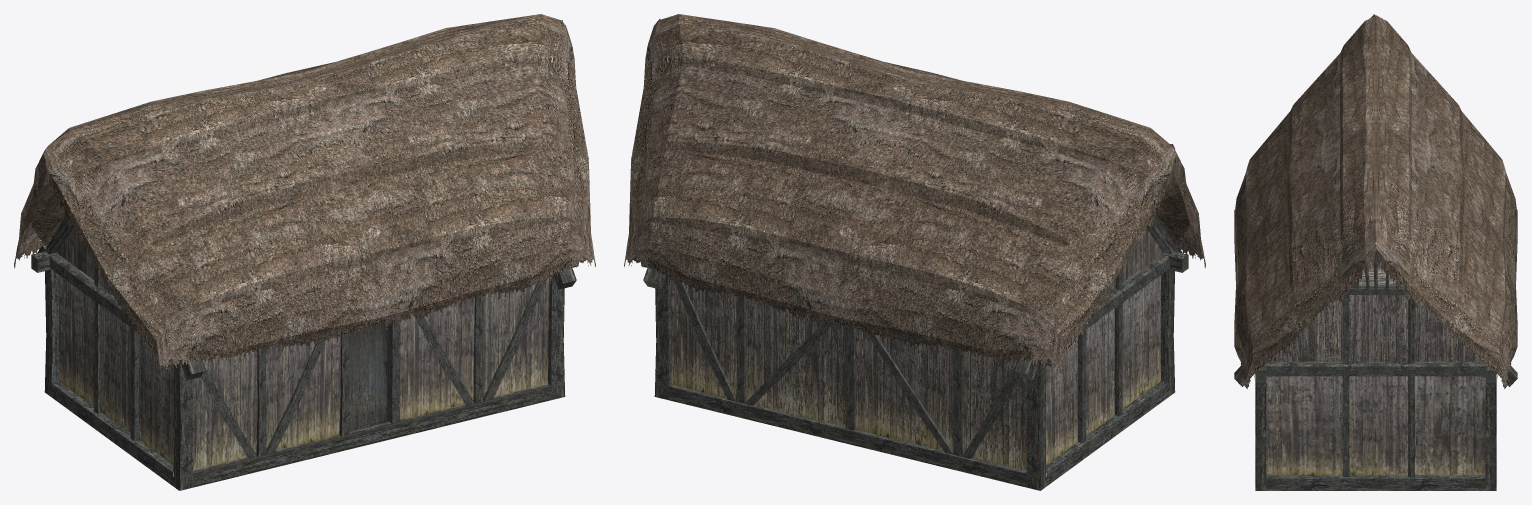
Rendered from Thatched_house3V3_Alex.fbx.
3 renders of one model, left to right at view 1: azimuth 30°, elevation 25°; view 2: azimuth 150°, elevation 25°; view 3: azimuth 270°, elevation 25°, orthographic. The views are drawn at different scales.
Parts seen in each view (by area): view 1: ThatchedRoof_UP.003, House3_walls, ThatchedRoof_BOT.003, House_frame.002, Wooden_door.003; view 2: ThatchedRoof_UP.003, House3_walls, ThatchedRoof_BOT.003, House_frame.002; view 3: ThatchedRoof_UP.003, House3_walls, House_frame.002, ThatchedRoof_BOT.003.
Boxes of the visible parts, bbox=[...] form: ThatchedRoof_UP.003: bbox=[29, 14, 580, 325]; House3_walls: bbox=[57, 228, 549, 470]; ThatchedRoof_BOT.003: bbox=[14, 23, 595, 373]; House_frame.002: bbox=[31, 216, 578, 490]; Wooden_door.003: bbox=[349, 322, 388, 430]; ThatchedRoof_UP.003: bbox=[639, 14, 1190, 325]; House3_walls: bbox=[670, 228, 1162, 471]; ThatchedRoof_BOT.003: bbox=[624, 21, 1205, 373]; House_frame.002: bbox=[641, 215, 1188, 490]; ThatchedRoof_UP.003: bbox=[1245, 14, 1506, 345]; House3_walls: bbox=[1266, 262, 1485, 475]; House_frame.002: bbox=[1234, 210, 1517, 490]; ThatchedRoof_BOT.003: bbox=[1234, 172, 1517, 388].
Bounding box in the file's own units: 979 × 585 × 513.
5 materials, 5 textured.
